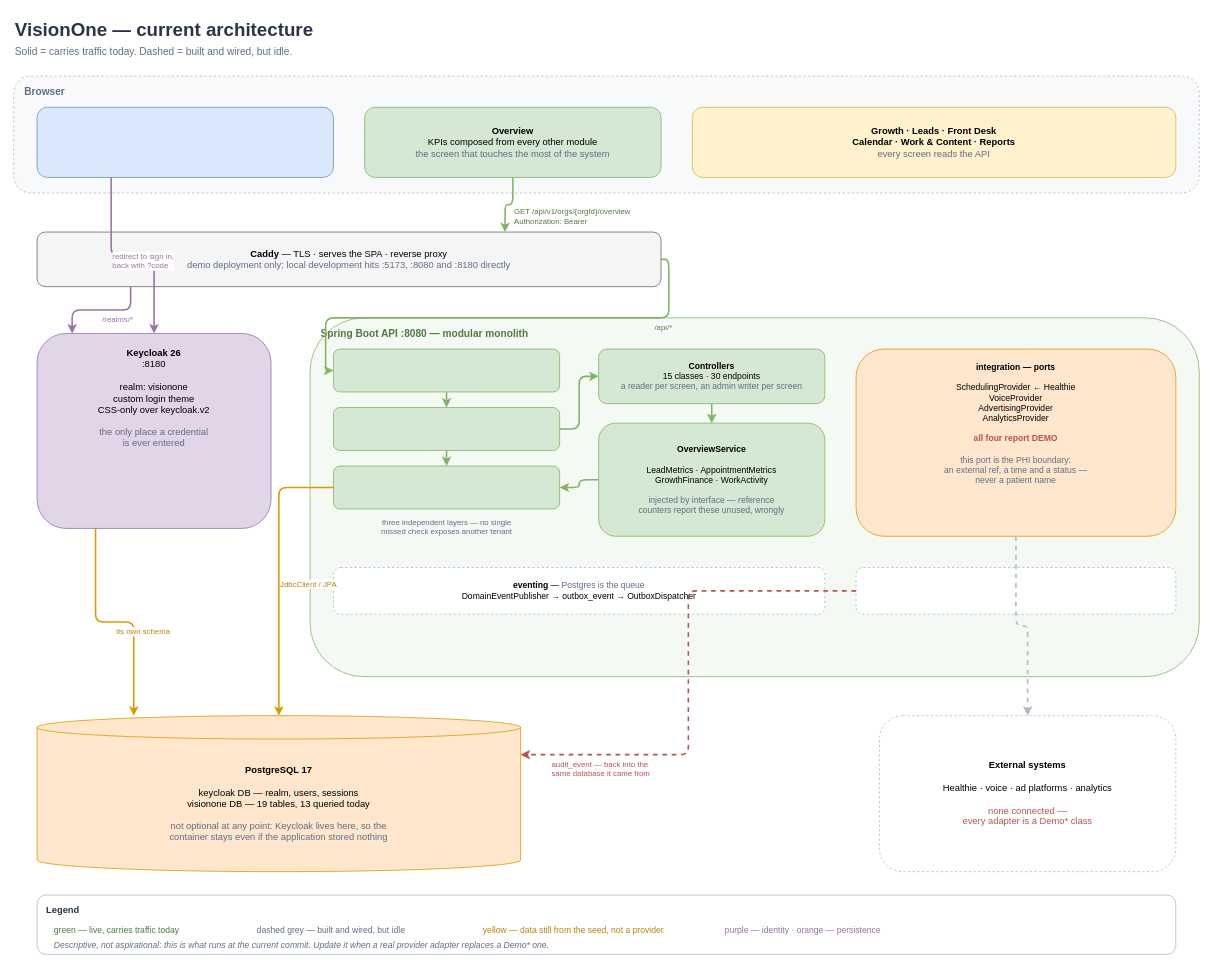
This 1213x968 diagram has some shape labels left out. The centre of each missing label's shape, as x and y in pixels:
"audit AuditEventHandler the only handler" belongs at (x=1015, y=590).
"SPA React 18 · Vite 6 · Tailwind 3 react-oidc-context — auth code + PKCE" belongs at (x=184, y=141).
"① auth.SecurityConfig validate JWT · map realm roles" belongs at (x=446, y=370).
"② OrganizationContextInterceptor resolve {orgId} · check membership" belongs at (x=446, y=428).
"③ tenant-scoped repositories every query bound to organization_id" belongs at (x=446, y=487).
